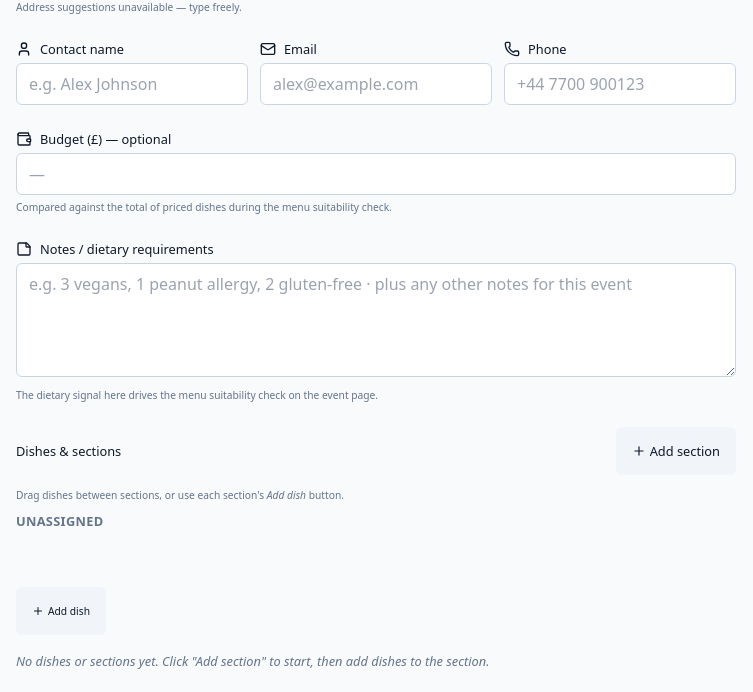
it: EventEditor › suggests an existing recipe in the dish name input
(page scrolled)
Click the button "Add dish" at (61, 611), box [16,587,106,635]
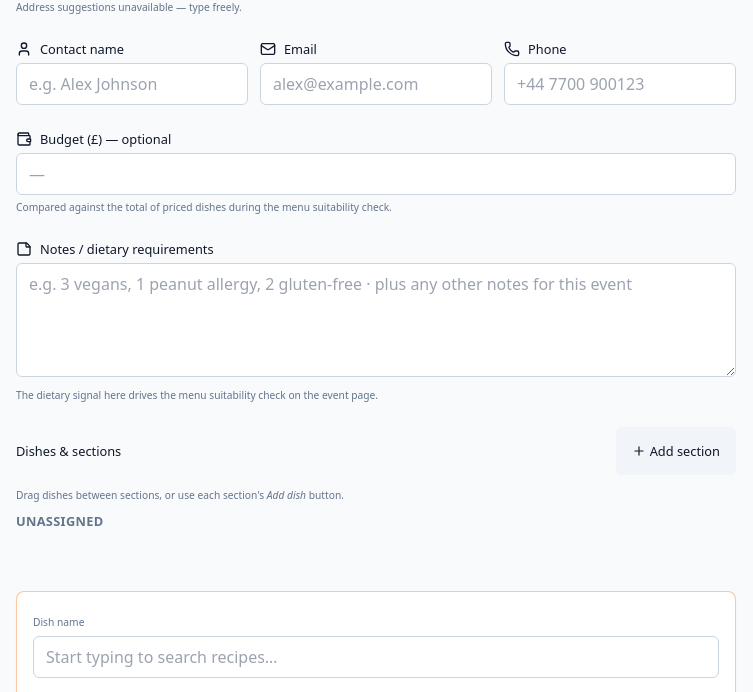
Type "Rib" into the field named "dish name" at (376, 657), box [33,636,719,678]
(page scrolled)
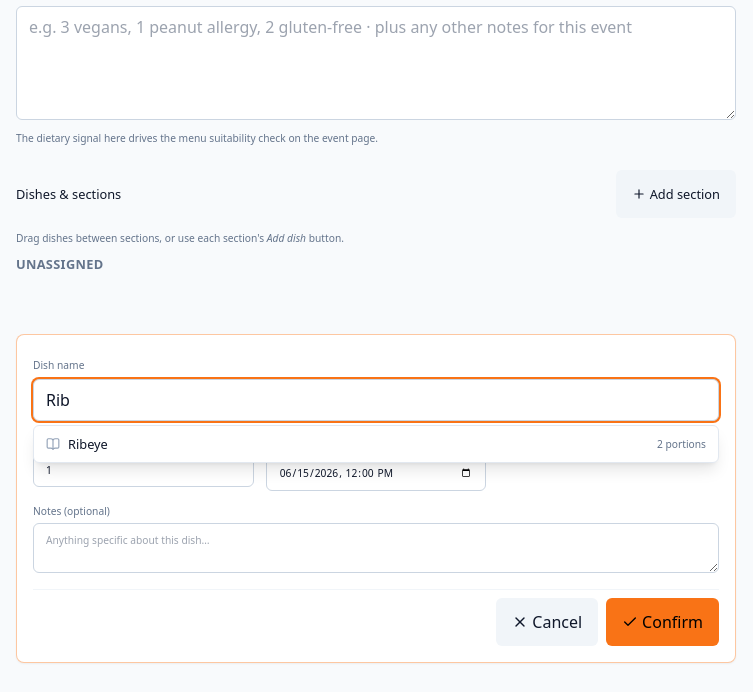
expect the button "Ribeye 2 portions" is shown: met, box [34,426,718,462]
